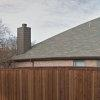Chimney: (13, 16, 35, 60)
